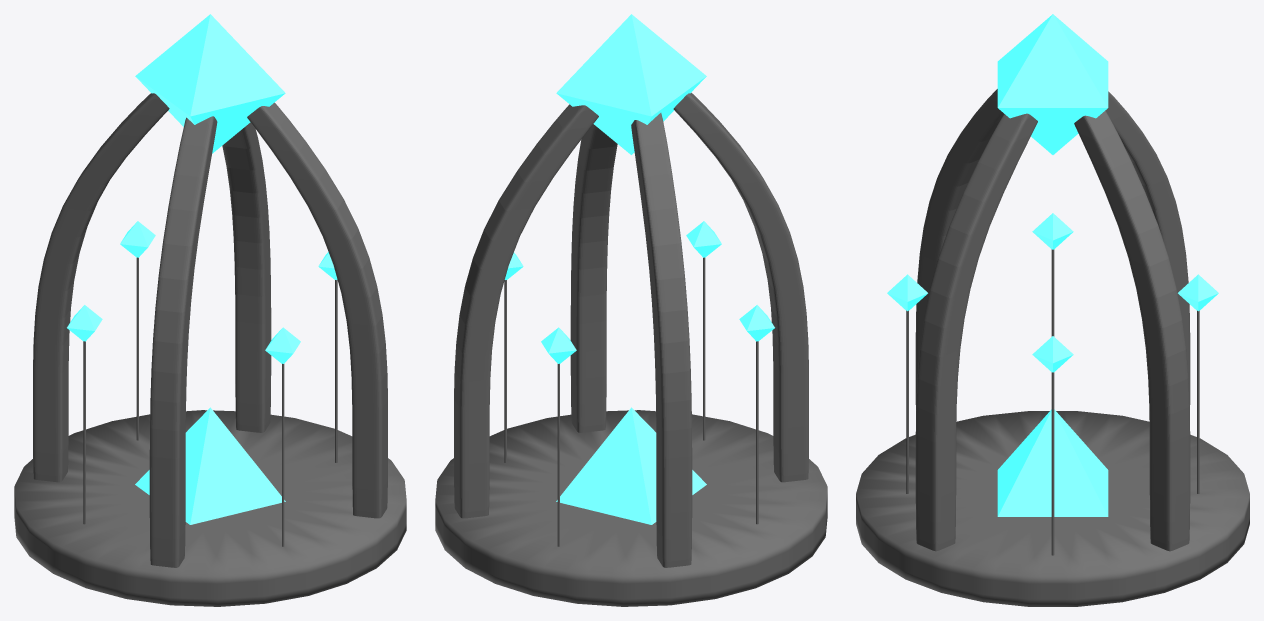
The model's file is Tower3.fbx.
3 renders of one model, left to right at view 1: azimuth 30°, elevation 25°; view 2: azimuth 150°, elevation 25°; view 3: azimuth 270°, elevation 25°, orthographic.
Visible parts, largest first — view 1: Cylinder, Cube.007, Cube.006, Cube.008, Cube, Cube.005, Cone, Cube.001, Cube.002, Cube.003, Cylinder.004, Cylinder.002 (+2 smaller); view 2: Cylinder, Cube.008, Cube, Cube.007, Cube.006, Cube.005, Cone, Cube.003, Cube.002, Cube.001, Cylinder.004, Cylinder.002 (+2 smaller); view 3: Cylinder, Cube.006, Cube, Cube.005, Cone, Cube.007, Cube.008, Cube.002, Cube.004, Cube.001, Cube.003, Cylinder.003 (+2 smaller).
Part boxes in pixels (x1=…): Cylinder: x1=14, y1=410, x2=406, y2=606; Cube.007: x1=149, y1=116, x2=217, y2=567; Cube.006: x1=247, y1=102, x2=387, y2=518; Cube.008: x1=33, y1=93, x2=169, y2=482; Cube: x1=222, y1=122, x2=271, y2=432; Cube.005: x1=135, y1=14, x2=285, y2=153; Cone: x1=135, y1=407, x2=285, y2=524; Cube.001: x1=120, y1=221, x2=155, y2=257; Cube.002: x1=67, y1=305, x2=102, y2=341; Cube.003: x1=265, y1=327, x2=300, y2=363; Cylinder.004: x1=83, y1=341, x2=85, y2=524; Cylinder.002: x1=136, y1=257, x2=138, y2=440; Cylinder: x1=435, y1=410, x2=827, y2=606; Cube.008: x1=631, y1=113, x2=692, y2=567; Cube: x1=454, y1=104, x2=598, y2=518; Cube.007: x1=673, y1=92, x2=808, y2=482; Cube.006: x1=570, y1=124, x2=617, y2=432; Cube.005: x1=556, y1=14, x2=706, y2=154; Cone: x1=556, y1=407, x2=706, y2=524; Cube.003: x1=686, y1=221, x2=721, y2=257; Cube.002: x1=739, y1=305, x2=774, y2=341; Cube.001: x1=541, y1=327, x2=576, y2=363; Cylinder.004: x1=756, y1=341, x2=758, y2=524; Cylinder.002: x1=557, y1=363, x2=559, y2=546; Cylinder: x1=856, y1=411, x2=1249, y2=606; Cube.006: x1=915, y1=113, x2=1037, y2=551; Cube: x1=1074, y1=110, x2=1190, y2=551; Cube.005: x1=997, y1=14, x2=1108, y2=154; Cone: x1=997, y1=409, x2=1108, y2=516; Cube.007: x1=915, y1=89, x2=1003, y2=411; Cube.008: x1=1105, y1=91, x2=1190, y2=409; Cube.002: x1=1032, y1=213, x2=1073, y2=249; Cube.004: x1=1032, y1=336, x2=1073, y2=372; Cube.001: x1=1178, y1=274, x2=1218, y2=311; Cube.003: x1=887, y1=274, x2=927, y2=311; Cylinder.003: x1=1051, y1=372, x2=1054, y2=555.
Bounding box in the file's own units: 334 × 481 × 337.
